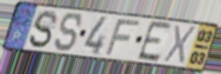4: (82, 14, 108, 57)
E: (135, 20, 174, 64)
F: (103, 19, 143, 57)
S: (27, 9, 60, 50), (53, 12, 84, 53)
X: (162, 24, 199, 66)
